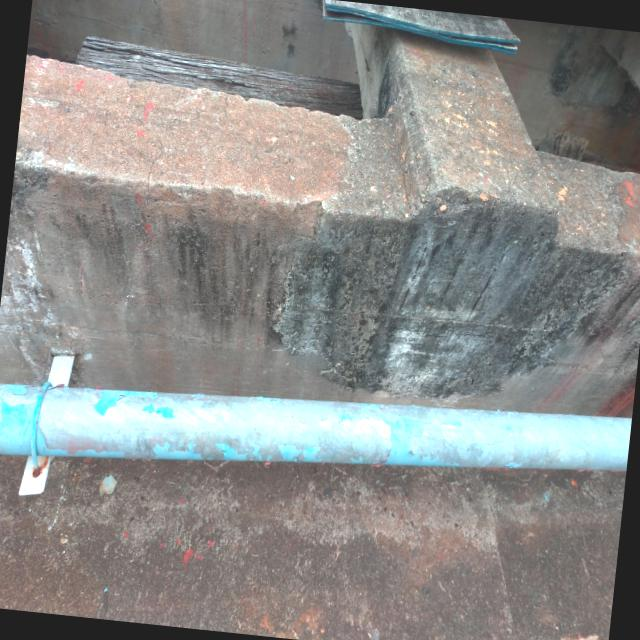gas: (0, 385, 631, 471)
